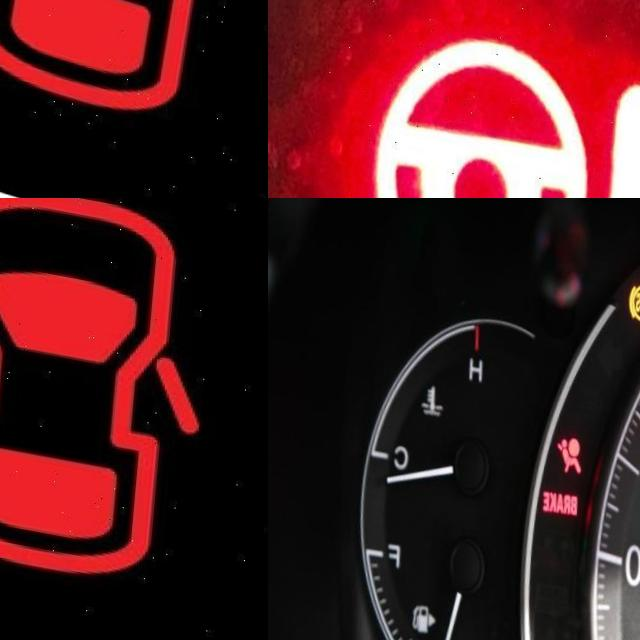Electronic Power Steering Warning: (377, 11, 640, 198)
